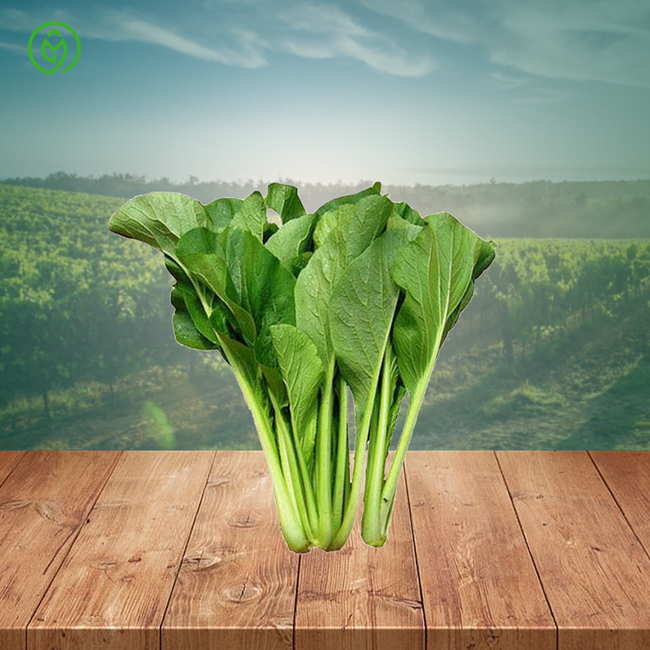Sawi: (119, 171, 497, 565)
